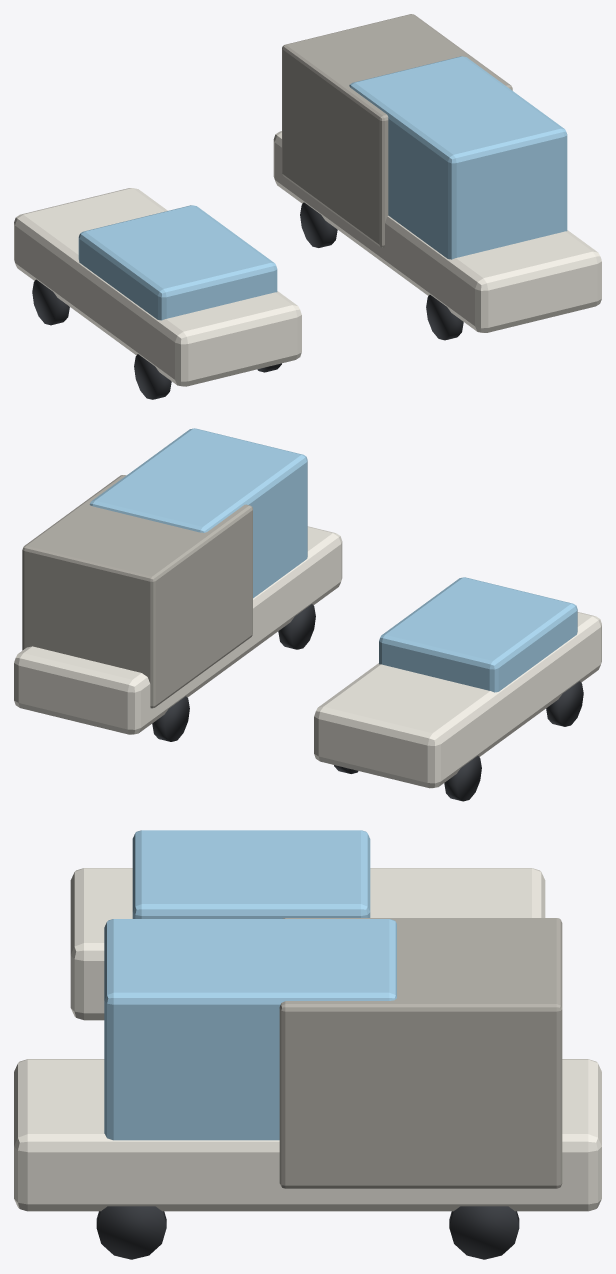
Rendered from BackgroundCar_blockout.glb.
3 views of the same model, one above another, from view 1: azimuth 30°, elevation 25°; view 2: azimuth 150°, elevation 25°; view 3: azimuth 270°, elevation 25° (orthographic). The views are drawn at different scales.
Visible parts, largest first — view 1: VEH07_BackgroundCar_TruckCab_L0, VEH07_BackgroundCar_CarLower_L0, VEH07_BackgroundCar_Cargo_L0, VEH07_BackgroundCar_TruckLower_L0, VEH07_BackgroundCar_CarCab_L0, VEH07_BackgroundCar_CarWheel1S0_L0, VEH07_BackgroundCar_CarWheel0S0_L0, VEH07_BackgroundCar_TruckWheel0S0_L0, VEH07_BackgroundCar_TruckWheel1S0_L0; view 2: VEH07_BackgroundCar_Cargo_L0, VEH07_BackgroundCar_CarLower_L0, VEH07_BackgroundCar_TruckCab_L0, VEH07_BackgroundCar_TruckLower_L0, VEH07_BackgroundCar_CarCab_L0, VEH07_BackgroundCar_CarWheel1S0_L0, VEH07_BackgroundCar_TruckWheel0S0_L0, VEH07_BackgroundCar_TruckWheel1S0_L0, VEH07_BackgroundCar_CarWheel0S0_L0; view 3: VEH07_BackgroundCar_Cargo_L0, VEH07_BackgroundCar_TruckCab_L0, VEH07_BackgroundCar_TruckLower_L0, VEH07_BackgroundCar_CarCab_L0, VEH07_BackgroundCar_CarLower_L0, VEH07_BackgroundCar_TruckWheel0S1_L0, VEH07_BackgroundCar_TruckWheel1S1_L0.
Boxes of the visible parts, bbox=[...] form: VEH07_BackgroundCar_TruckCab_L0: bbox=[349, 56, 567, 259]; VEH07_BackgroundCar_CarLower_L0: bbox=[14, 188, 301, 386]; VEH07_BackgroundCar_Cargo_L0: bbox=[282, 14, 512, 247]; VEH07_BackgroundCar_TruckLower_L0: bbox=[273, 131, 601, 332]; VEH07_BackgroundCar_CarCab_L0: bbox=[78, 205, 277, 320]; VEH07_BackgroundCar_CarWheel1S0_L0: bbox=[32, 279, 69, 325]; VEH07_BackgroundCar_CarWheel0S0_L0: bbox=[134, 354, 171, 399]; VEH07_BackgroundCar_TruckWheel0S0_L0: bbox=[426, 295, 463, 340]; VEH07_BackgroundCar_TruckWheel1S0_L0: bbox=[300, 202, 337, 247]; VEH07_BackgroundCar_Cargo_L0: bbox=[22, 475, 252, 708]; VEH07_BackgroundCar_CarLower_L0: bbox=[314, 612, 601, 788]; VEH07_BackgroundCar_TruckCab_L0: bbox=[89, 428, 307, 598]; VEH07_BackgroundCar_TruckLower_L0: bbox=[14, 526, 342, 734]; VEH07_BackgroundCar_CarCab_L0: bbox=[379, 577, 577, 692]; VEH07_BackgroundCar_CarWheel1S0_L0: bbox=[444, 756, 481, 801]; VEH07_BackgroundCar_TruckWheel0S0_L0: bbox=[278, 604, 315, 649]; VEH07_BackgroundCar_TruckWheel1S0_L0: bbox=[152, 696, 189, 741]; VEH07_BackgroundCar_CarWheel0S0_L0: bbox=[546, 681, 583, 726]; VEH07_BackgroundCar_Cargo_L0: bbox=[279, 918, 562, 1188]; VEH07_BackgroundCar_TruckCab_L0: bbox=[104, 919, 396, 1140]; VEH07_BackgroundCar_TruckLower_L0: bbox=[14, 1059, 601, 1211]; VEH07_BackgroundCar_CarCab_L0: bbox=[132, 830, 370, 918]; VEH07_BackgroundCar_CarLower_L0: bbox=[70, 868, 545, 1020]; VEH07_BackgroundCar_TruckWheel0S1_L0: bbox=[96, 1206, 166, 1259]; VEH07_BackgroundCar_TruckWheel1S1_L0: bbox=[449, 1206, 519, 1259].
Size of the model in its own units: 5.85 by 2.55 by 5.2.
